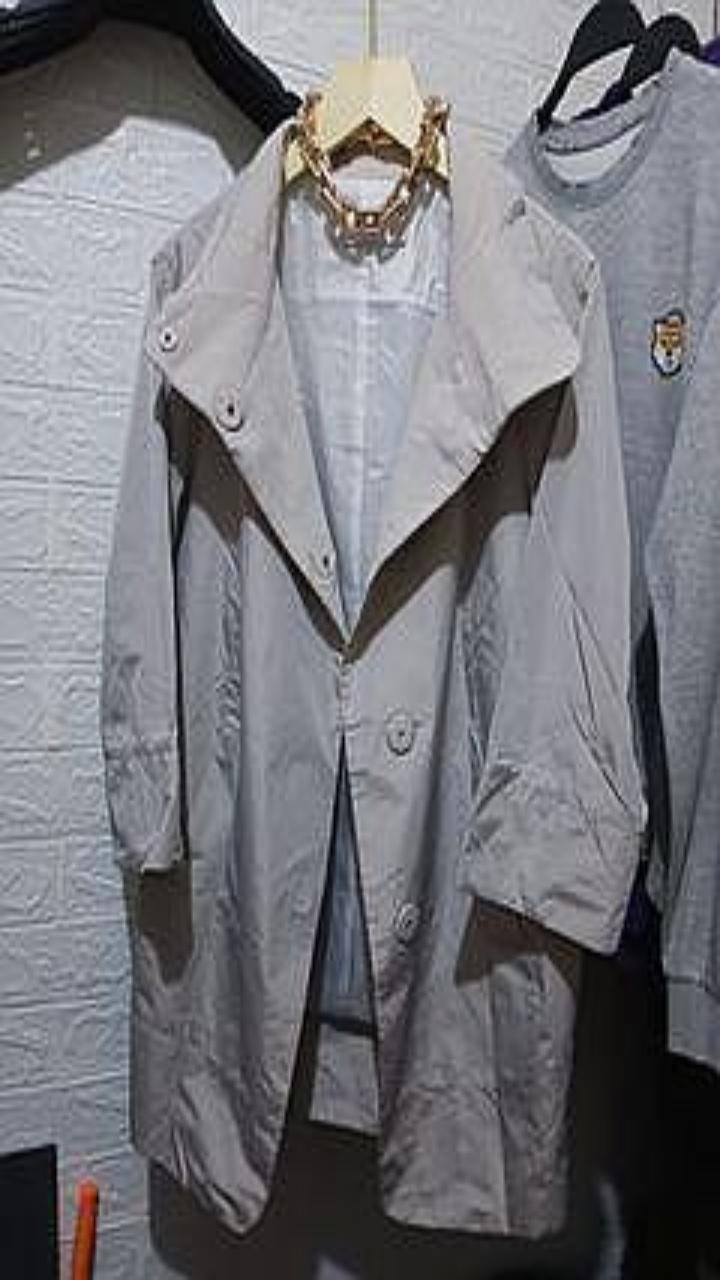Coat: (101, 125, 643, 1235)
T-Shirt: (507, 51, 719, 1067)
